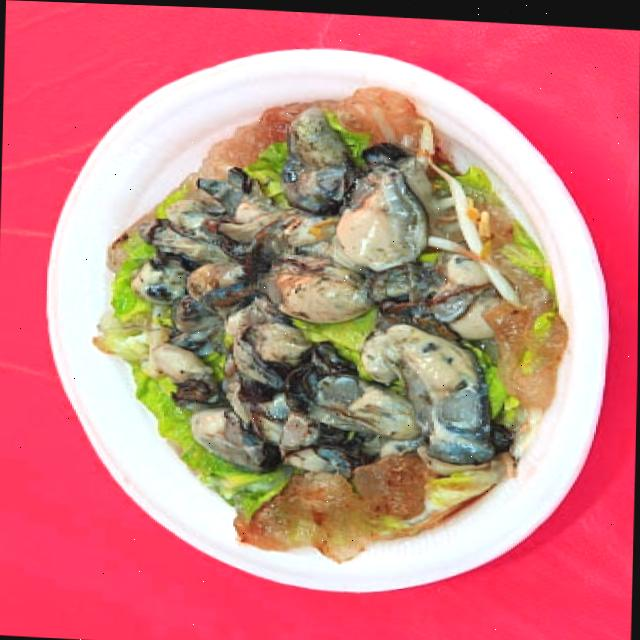熟制海鲜: (36, 23, 599, 604)
